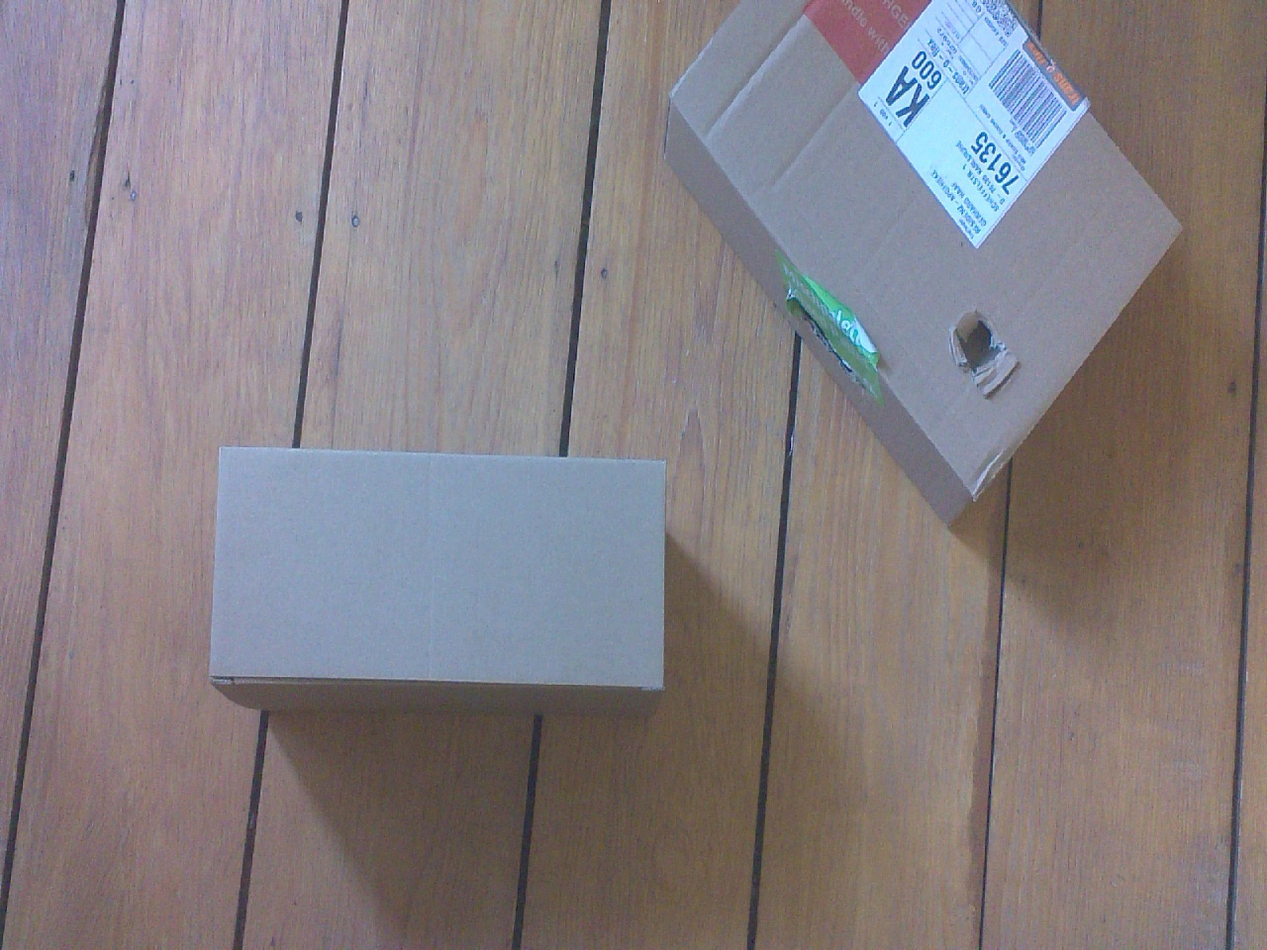good-parcel: (197, 426, 690, 732)
